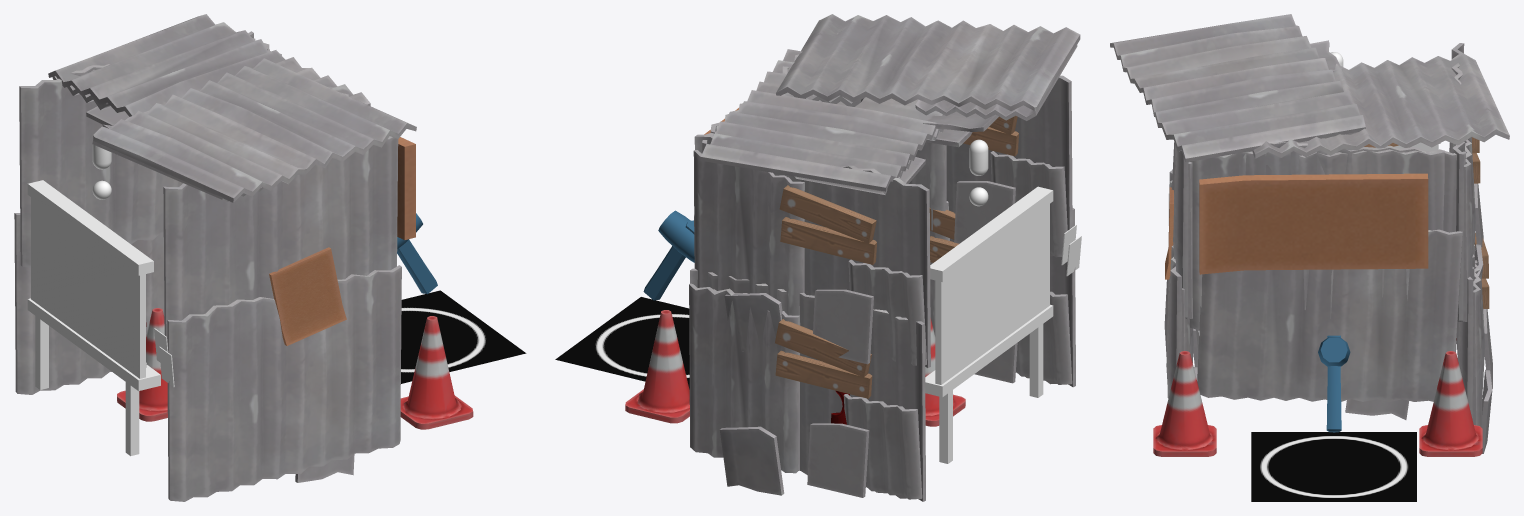
Rendered from QuestGiver.fbx.
3 views of the same model, side by side, from view 1: azimuth 30°, elevation 25°; view 2: azimuth 150°, elevation 25°; view 3: azimuth 270°, elevation 25° (orthographic). The views are drawn at different scales.
Parts seen in each view (by area): view 1: Mat_MetalBoard_01_1, White 2, Floor, Mat_PaperBox_02, Mat_Roadblocks01, BuildingInteractRing, EdgeLight_build, QuestMarker, White; view 2: Mat_MetalBoard_01_1, Mat_MetalBoard_01_3, Mat_MetalBoard_01_4, White 2, Mat_WoodBoards_01_2, Floor, BuildingInteractRing, Mat_Roadblocks01, EdgeLight_build, QuestMarker, White; view 3: Mat_MetalBoard_01_1, Mat_PaperBox_02, BuildingInteractRing, Mat_Roadblocks01, Mat_MetalBoard_01_3, EdgeLight_build, Mat_WoodBoards_01_2.
Boxes of the visible parts, bbox=[...] form: Mat_MetalBoard_01_1: bbox=[14, 14, 416, 501]; White 2: bbox=[31, 197, 145, 378]; Floor: bbox=[27, 180, 160, 456]; Mat_PaperBox_02: bbox=[269, 137, 415, 345]; Mat_Roadblocks01: bbox=[117, 308, 473, 429]; BuildingInteractRing: bbox=[401, 290, 526, 383]; EdgeLight_build: bbox=[397, 213, 437, 294]; QuestMarker: bbox=[92, 139, 111, 199]; White: bbox=[154, 328, 174, 386]; Mat_MetalBoard_01_1: bbox=[690, 14, 1080, 501]; Mat_MetalBoard_01_3: bbox=[689, 44, 1077, 473]; Mat_MetalBoard_01_4: bbox=[783, 92, 1072, 499]; White 2: bbox=[935, 204, 1049, 384]; Mat_WoodBoards_01_2: bbox=[775, 116, 1018, 398]; Floor: bbox=[925, 186, 1053, 463]; BuildingInteractRing: bbox=[555, 297, 689, 389]; Mat_Roadblocks01: bbox=[625, 310, 965, 426]; EdgeLight_build: bbox=[643, 210, 694, 300]; QuestMarker: bbox=[969, 139, 988, 206]; White: bbox=[1061, 225, 1081, 276]; Mat_MetalBoard_01_1: bbox=[1110, 14, 1509, 453]; Mat_PaperBox_02: bbox=[1165, 173, 1428, 279]; BuildingInteractRing: bbox=[1251, 432, 1416, 501]; Mat_Roadblocks01: bbox=[1153, 351, 1482, 456]; Mat_MetalBoard_01_3: bbox=[1181, 137, 1485, 427]; EdgeLight_build: bbox=[1318, 335, 1350, 432]; Mat_WoodBoards_01_2: bbox=[1364, 137, 1489, 308].
Size of the model in its own units: 4.01 by 3.34 by 3.48.
16 materials, 16 textured.
